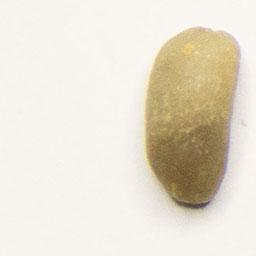longberry: (139, 22, 245, 211)
